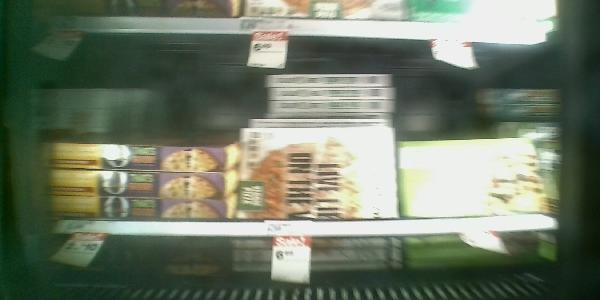pizza: (238, 127, 396, 219), (400, 142, 551, 215)
pizza1: (33, 142, 236, 170), (32, 171, 236, 197), (41, 200, 234, 221), (269, 102, 397, 117), (267, 74, 391, 87), (268, 88, 400, 100)
